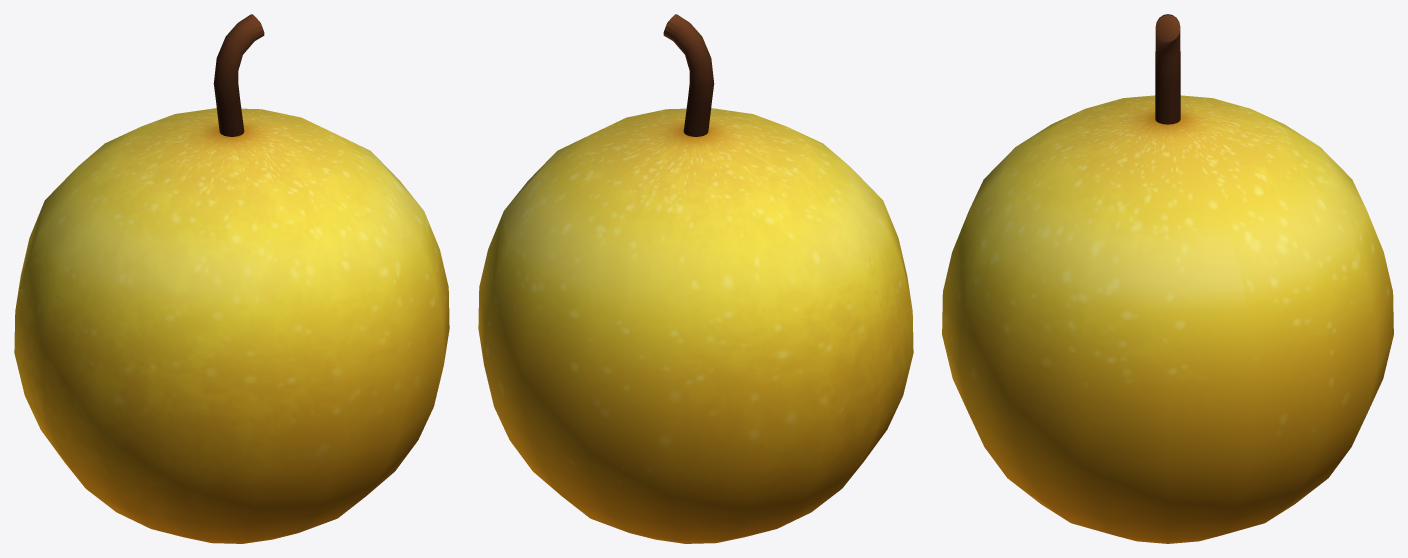
File: PassionFruit_Yellow.fbx
3 views of the same model, side by side, from view 1: azimuth 30°, elevation 25°; view 2: azimuth 150°, elevation 25°; view 3: azimuth 270°, elevation 25° (orthographic). The views are drawn at different scales.
Parts seen in each view (by area): view 1: PassionFruit_Yellow; view 2: PassionFruit_Yellow; view 3: PassionFruit_Yellow.
Part boxes in pixels (box(x1,y1,x2,y2)): PassionFruit_Yellow: box(14, 14, 449, 543); PassionFruit_Yellow: box(478, 14, 913, 543); PassionFruit_Yellow: box(942, 14, 1393, 543).
Size of the model in its own units: 33.57 by 42.65 by 33.57.
